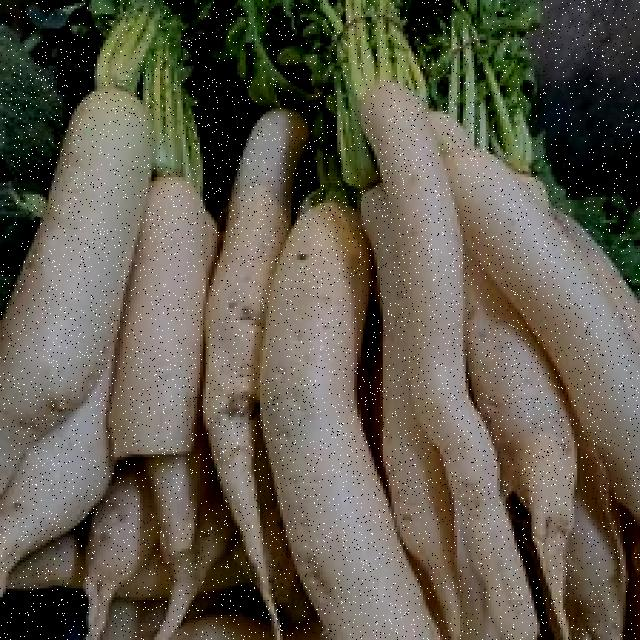Radish: (302, 25, 546, 640), (0, 0, 158, 640), (132, 52, 302, 640)
